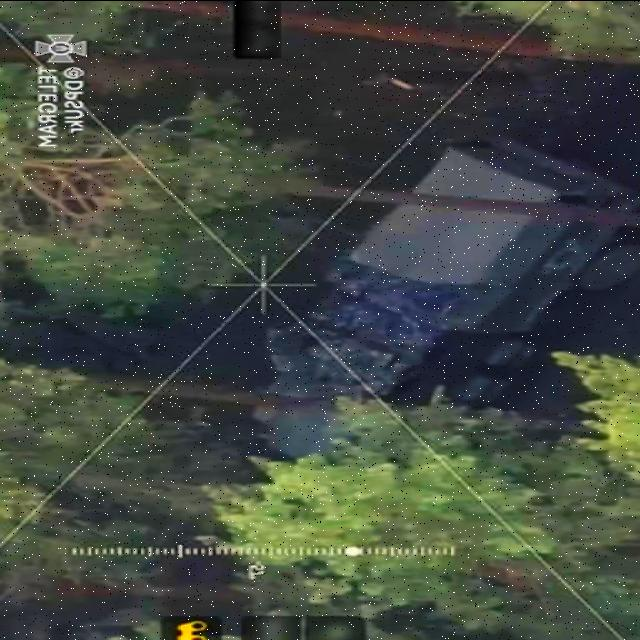TRUCK: (228, 145, 624, 483)
